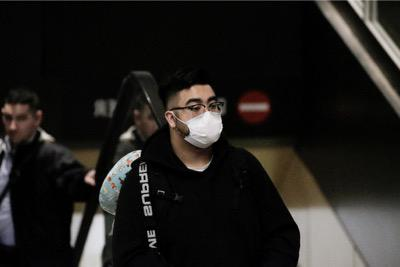with_mask: (176, 94, 224, 149)
without_mask: (0, 108, 29, 144)
